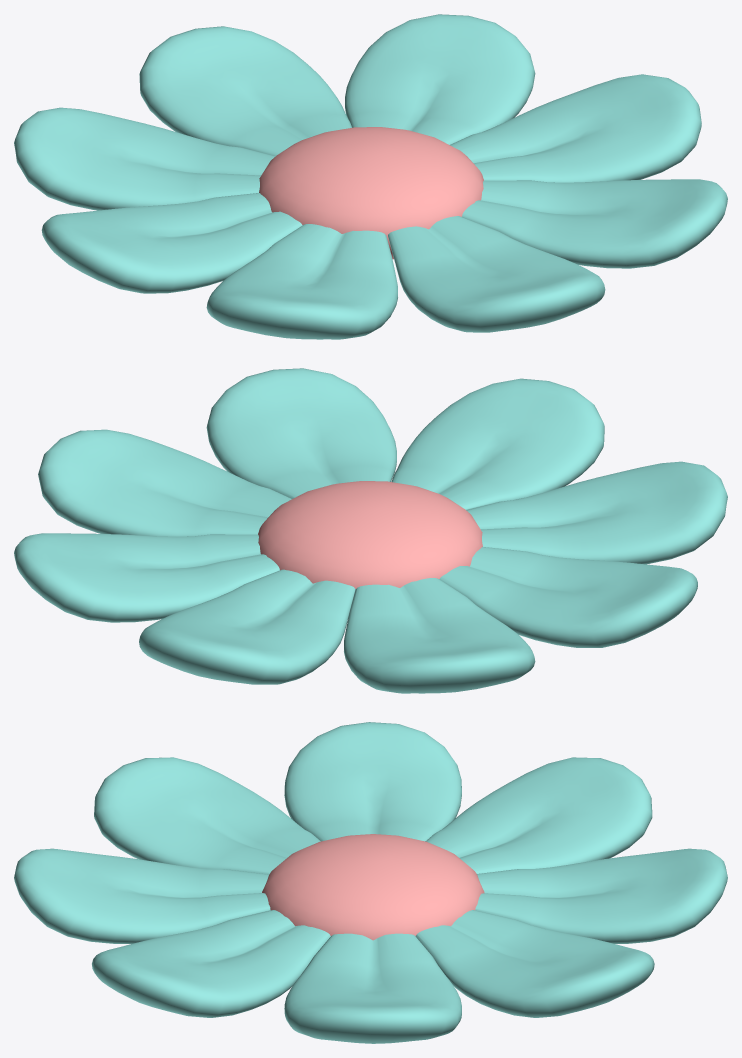
The model's file is hoa1.fbx.
The picture shows the model from 3 angles, top to bottom: view 1: azimuth 30°, elevation 25°; view 2: azimuth 150°, elevation 25°; view 3: azimuth 270°, elevation 25°; orthographic projection. The views are drawn at different scales.
Parts seen in each view (by area): view 1: polySurface8, pasted__polySurface10, pasted__polySurface8, polySurface4, pasted__pasted__polySurface8, pasted__polySurface9, polySurface68, polySurface70, pasted__pasted__polySurface10; view 2: polySurface70, pasted__polySurface10, pasted__polySurface9, pasted__pasted__polySurface10, polySurface4, pasted__polySurface8, polySurface68, polySurface8, pasted__pasted__polySurface8; view 3: pasted__pasted__polySurface10, pasted__pasted__polySurface8, polySurface70, polySurface4, polySurface68, polySurface8, pasted__polySurface9, pasted__polySurface8, pasted__polySurface10.
Boxes of the visible parts, bbox=[...] form: polySurface8: bbox=[139, 26, 351, 156]; pasted__polySurface10: bbox=[450, 74, 701, 182]; pasted__polySurface8: bbox=[345, 14, 535, 144]; polySurface4: bbox=[259, 127, 483, 259]; pasted__pasted__polySurface8: bbox=[14, 107, 275, 210]; pasted__polySurface9: bbox=[462, 179, 727, 268]; polySurface68: bbox=[41, 193, 302, 293]; polySurface70: bbox=[388, 216, 605, 332]; pasted__pasted__polySurface10: bbox=[206, 224, 397, 339]; polySurface70: bbox=[391, 378, 604, 510]; pasted__polySurface10: bbox=[38, 429, 291, 536]; pasted__polySurface9: bbox=[206, 368, 396, 498]; pasted__pasted__polySurface10: bbox=[466, 461, 727, 564]; polySurface4: bbox=[258, 481, 482, 588]; pasted__polySurface8: bbox=[14, 533, 279, 622]; polySurface68: bbox=[439, 547, 697, 647]; polySurface8: bbox=[139, 569, 355, 684]; pasted__pasted__polySurface8: bbox=[344, 578, 535, 693]; pasted__pasted__polySurface10: bbox=[94, 757, 320, 874]; pasted__pasted__polySurface8: bbox=[425, 757, 652, 873]; polySurface70: bbox=[14, 848, 270, 943]; polySurface4: bbox=[262, 834, 484, 940]; polySurface68: bbox=[284, 722, 461, 841]; polySurface8: bbox=[475, 848, 727, 943]; pasted__polySurface9: bbox=[92, 910, 330, 1017]; pasted__polySurface8: bbox=[415, 910, 654, 1017]; pasted__polySurface10: bbox=[284, 933, 461, 1043].
Size of the model in its own units: 82.74 by 11.5 by 83.59.
